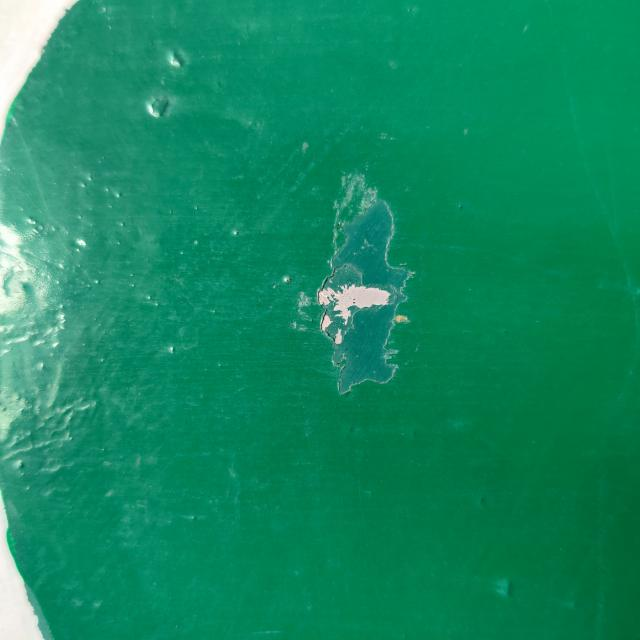paint-off: (276, 152, 438, 422)
